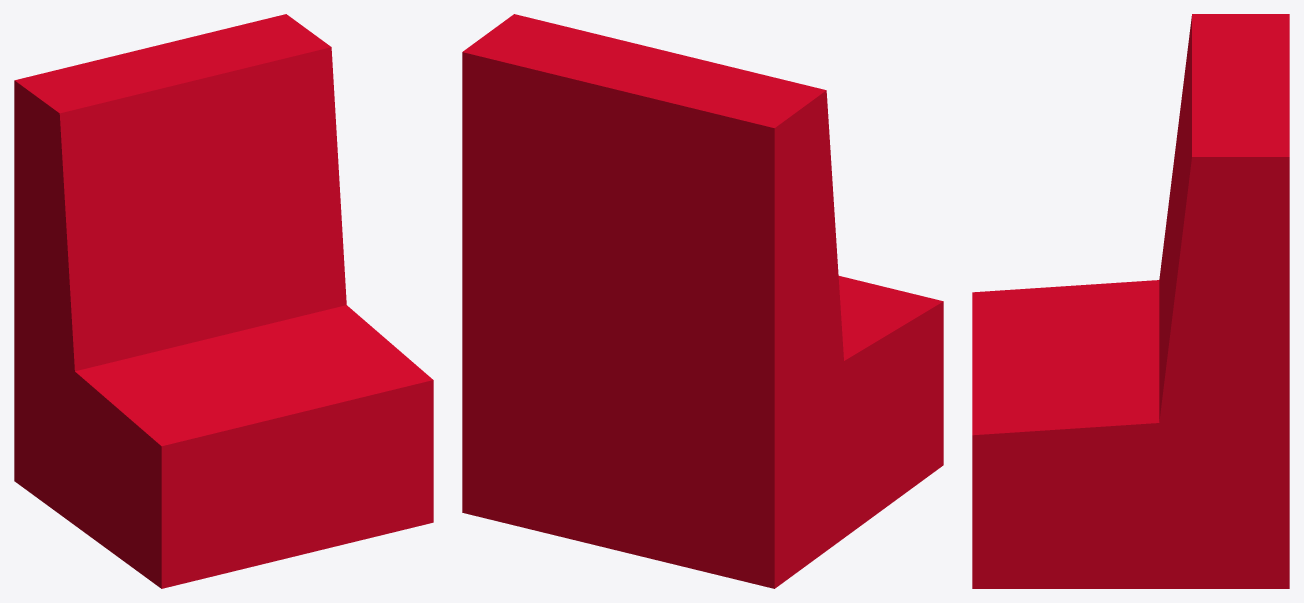
The model's file is tempChair.gltf.
The picture shows the model from 3 angles, left to right: view 1: azimuth 30°, elevation 25°; view 2: azimuth 150°, elevation 25°; view 3: azimuth 270°, elevation 25°; orthographic projection. The views are drawn at different scales.
Visible parts, largest first — view 1: Cube; view 2: Cube; view 3: Cube.
Part boxes in pixels (x1,y1,x2,y2): Cube: (14,14,433,588); Cube: (462,14,943,588); Cube: (972,14,1289,588).
Size of the model in its own units: 0.8 by 1.13 by 0.75.
